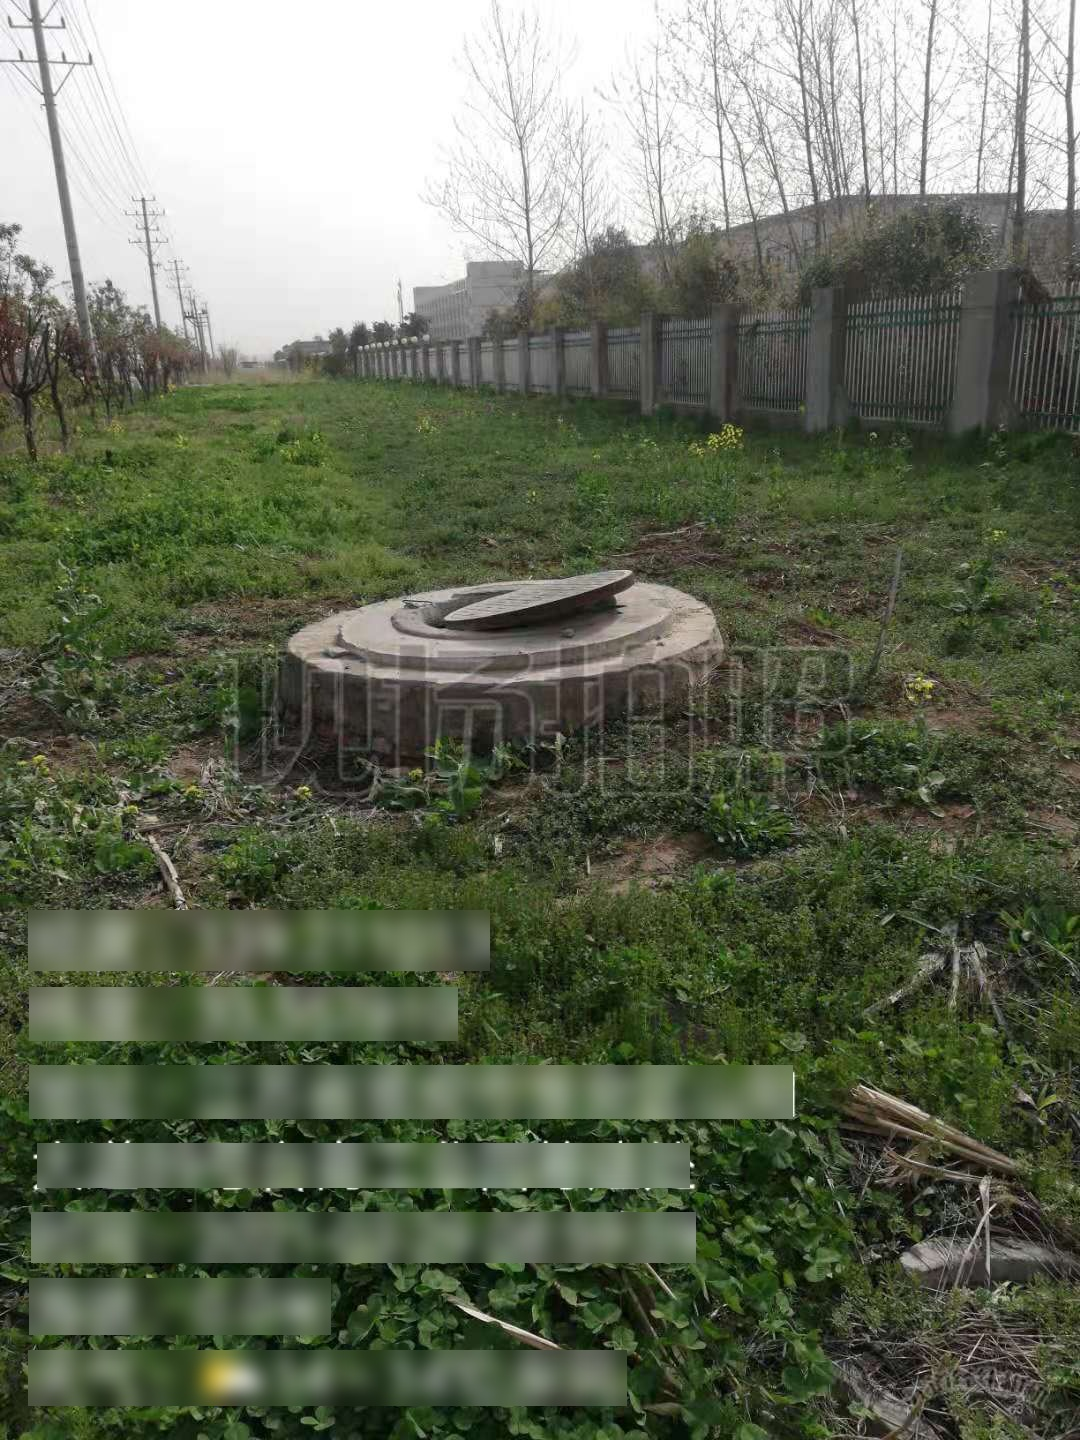uncovered: (341, 570, 680, 658)
